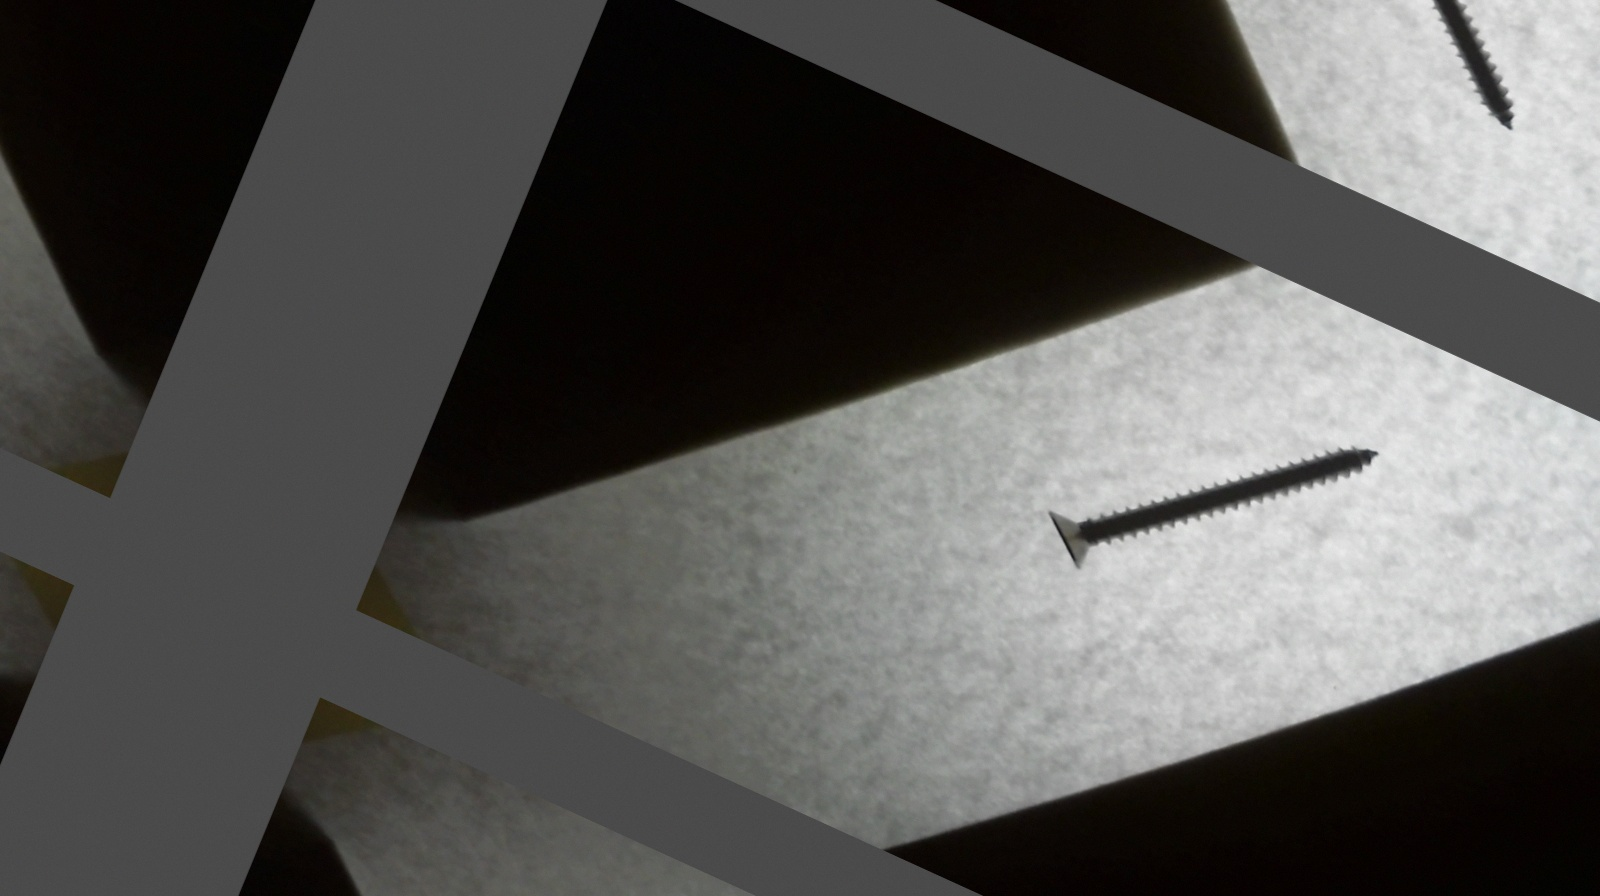S002: (1009, 308, 1399, 678)
